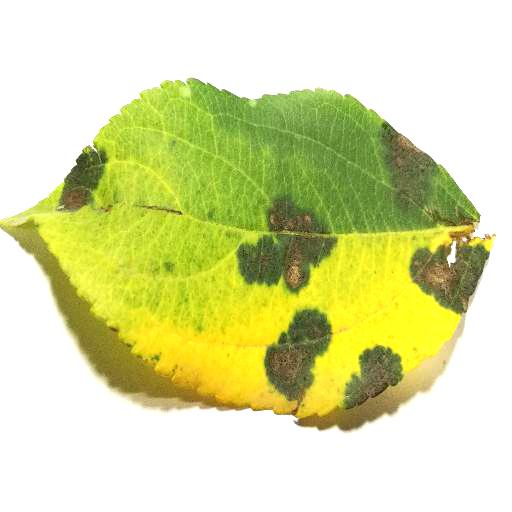Brown_Spot: (233, 209, 336, 286), (257, 305, 332, 401), (405, 241, 481, 319), (378, 127, 447, 211), (49, 145, 108, 216), (334, 351, 405, 406)
